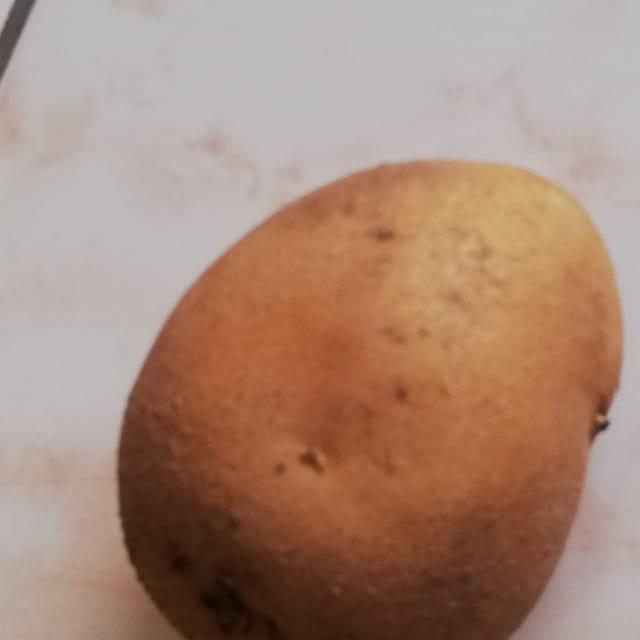potato: (96, 112, 640, 640)
